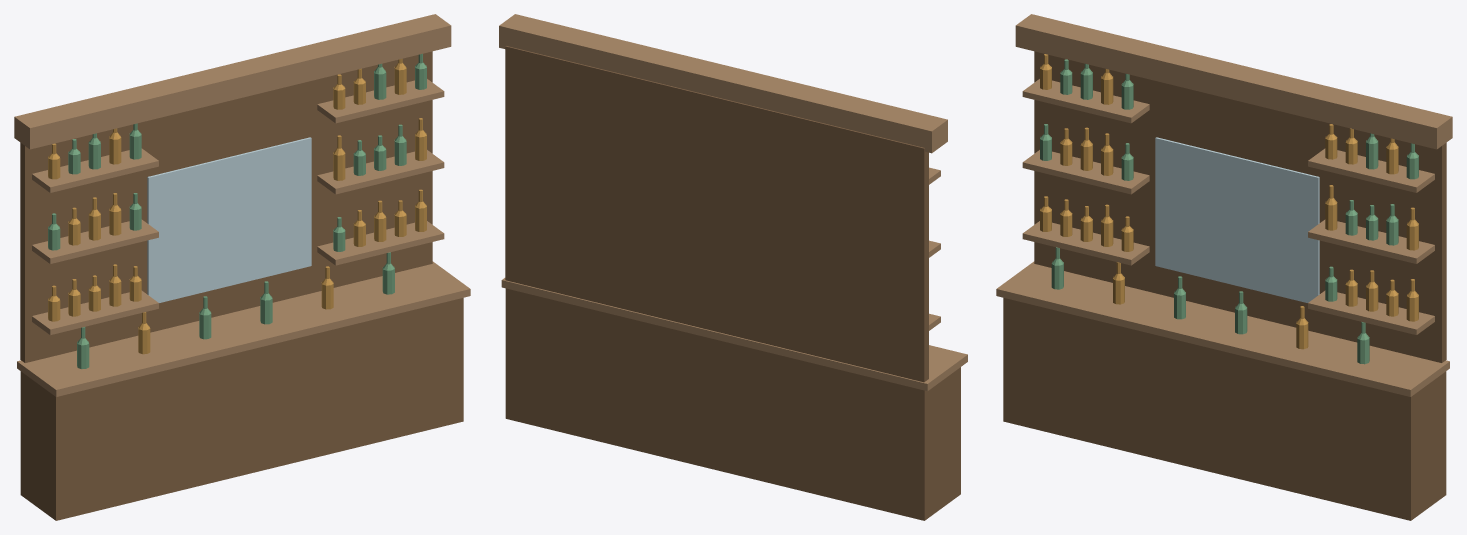
The model's file is SM_Bar_Back_Shelf.glb.
The picture shows the model from 3 angles, left to right: view 1: azimuth 30°, elevation 25°; view 2: azimuth 150°, elevation 25°; view 3: azimuth 330°, elevation 25°; orthographic projection. The views are drawn at different scales.
Visible parts, largest first — view 1: SM_Bar_Back_Shelf; view 2: SM_Bar_Back_Shelf; view 3: SM_Bar_Back_Shelf.
Boxes of the visible parts, x1=… form: SM_Bar_Back_Shelf: x1=14, y1=14, x2=470, y2=520; SM_Bar_Back_Shelf: x1=499, y1=14, x2=967, y2=520; SM_Bar_Back_Shelf: x1=996, y1=14, x2=1452, y2=520.
Size of the model in its own units: 3.1 by 2.67 by 0.5.
